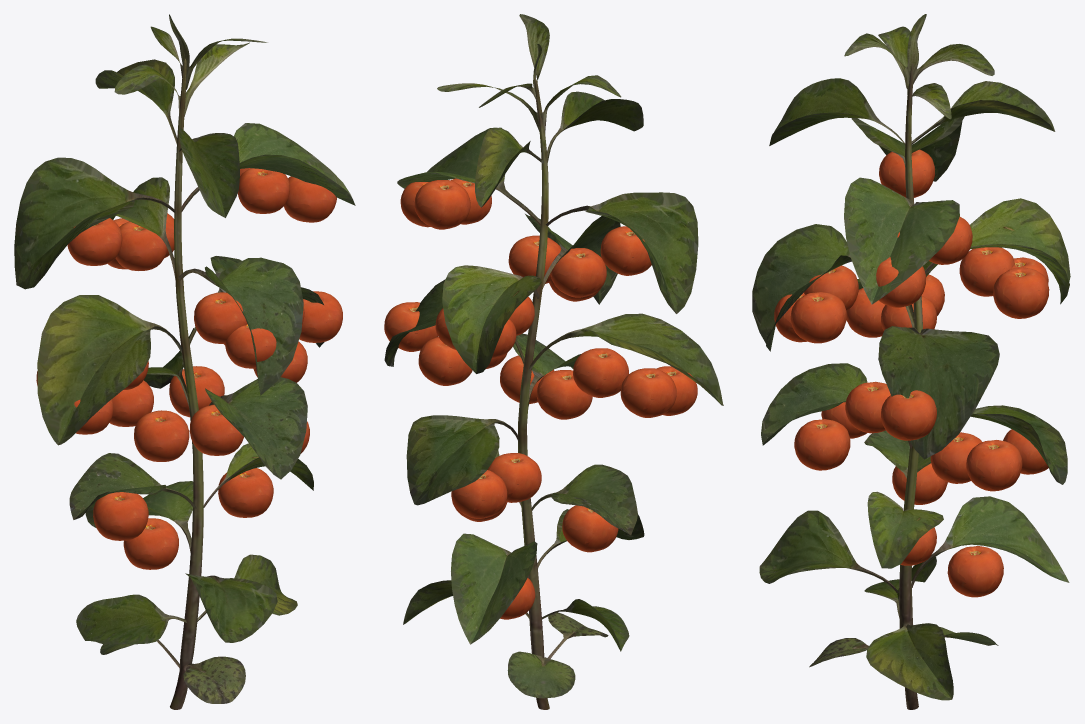
The model's file is plant_tomato.glb.
3 views of the same model, side by side, from view 1: azimuth 30°, elevation 25°; view 2: azimuth 150°, elevation 25°; view 3: azimuth 270°, elevation 25° (orthographic). The views are drawn at different scales.
Parts seen in each view (by area): view 1: nettle_plant_tall_a_LOD0, Tomato_Duplicate_2_2, Tomato_Duplicate_1_0, Tomato_Duplicate_0_1, Tomato_Duplicate_1_1, Tomato_Duplicate_7_1, Tomato_01, Tomato_Duplicate_3_1, Tomato_Duplicate_8_2, Tomato_Duplicate_6_2, Tomato_Duplicate_8_0, Tomato_Duplicate_4_0 (+5 smaller); view 2: nettle_plant_tall_a_LOD0, Tomato_Duplicate_5_1, Tomato_Duplicate_8_1, Tomato_Duplicate_5_0, Tomato_Duplicate_7_1, Tomato_Duplicate_3_1, Tomato_Duplicate_2_1, Tomato_Duplicate_1_0, Tomato_Duplicate_8_2, Tomato_Duplicate_2_2, Tomato_Duplicate_4_1, Tomato_Duplicate_4_0 (+8 smaller); view 3: nettle_plant_tall_a_LOD0, Tomato_Duplicate_3_0, Tomato_Duplicate_2_0, Tomato_Duplicate_7_0, Tomato_Duplicate_1_1, Tomato_Duplicate_6_0, Tomato_Duplicate_4_0, Tomato_Duplicate_6_2, Tomato_Duplicate_8_2, Tomato_Duplicate_4_2, Tomato_Duplicate_2_2, Tomato_Duplicate_8_0 (+10 smaller).
Part boxes in pixels (x1=…): nettle_plant_tall_a_LOD0: x1=14, y1=14, x2=355, y2=709; Tomato_Duplicate_2_2: x1=134, y1=410, x2=189, y2=461; Tomato_Duplicate_1_0: x1=93, y1=492, x2=148, y2=540; Tomato_Duplicate_0_1: x1=218, y1=468, x2=273, y2=517; Tomato_Duplicate_1_1: x1=123, y1=518, x2=178, y2=569; Tomato_Duplicate_7_1: x1=194, y1=292, x2=247, y2=343; Tomato_01: x1=237, y1=168, x2=289, y2=213; Tomato_Duplicate_3_1: x1=189, y1=404, x2=243, y2=455; Tomato_Duplicate_8_2: x1=67, y1=218, x2=122, y2=265; Tomato_Duplicate_6_2: x1=115, y1=221, x2=167, y2=270; Tomato_Duplicate_8_0: x1=284, y1=176, x2=336, y2=222; Tomato_Duplicate_4_0: x1=299, y1=291, x2=342, y2=342; nettle_plant_tall_a_LOD0: x1=384, y1=14, x2=723, y2=709; Tomato_Duplicate_5_1: x1=620, y1=368, x2=676, y2=417; Tomato_Duplicate_8_1: x1=414, y1=180, x2=470, y2=229; Tomato_Duplicate_5_0: x1=573, y1=348, x2=628, y2=397; Tomato_Duplicate_7_1: x1=550, y1=248, x2=606, y2=297; Tomato_Duplicate_3_1: x1=536, y1=370, x2=592, y2=419; Tomato_Duplicate_2_1: x1=451, y1=470, x2=507, y2=518; Tomato_Duplicate_1_0: x1=562, y1=505, x2=618, y2=552; Tomato_Duplicate_8_2: x1=600, y1=226, x2=651, y2=275; Tomato_Duplicate_2_2: x1=487, y1=453, x2=541, y2=502; Tomato_Duplicate_4_1: x1=418, y1=337, x2=472, y2=385; Tomato_Duplicate_4_0: x1=384, y1=302, x2=438, y2=351; nettle_plant_tall_a_LOD0: x1=752, y1=14, x2=1070, y2=709; Tomato_Duplicate_3_0: x1=794, y1=419, x2=850, y2=470; Tomato_Duplicate_2_0: x1=966, y1=440, x2=1022, y2=491; Tomato_Duplicate_7_0: x1=790, y1=292, x2=846, y2=343; Tomato_Duplicate_1_1: x1=947, y1=546, x2=1003, y2=597; Tomato_Duplicate_6_0: x1=993, y1=267, x2=1049, y2=318; Tomato_Duplicate_4_0: x1=881, y1=390, x2=936, y2=440; Tomato_Duplicate_6_2: x1=959, y1=247, x2=1014, y2=296; Tomato_Duplicate_8_2: x1=879, y1=149, x2=935, y2=197; Tomato_Duplicate_4_2: x1=845, y1=381, x2=890, y2=433; Tomato_Duplicate_2_2: x1=930, y1=432, x2=981, y2=483; Tomato_Duplicate_8_0: x1=876, y1=257, x2=926, y2=307.
Bounding box in the file's own units: 0.7182 × 1.49 × 0.6192.
Materials: 2 (2 with a texture image).
